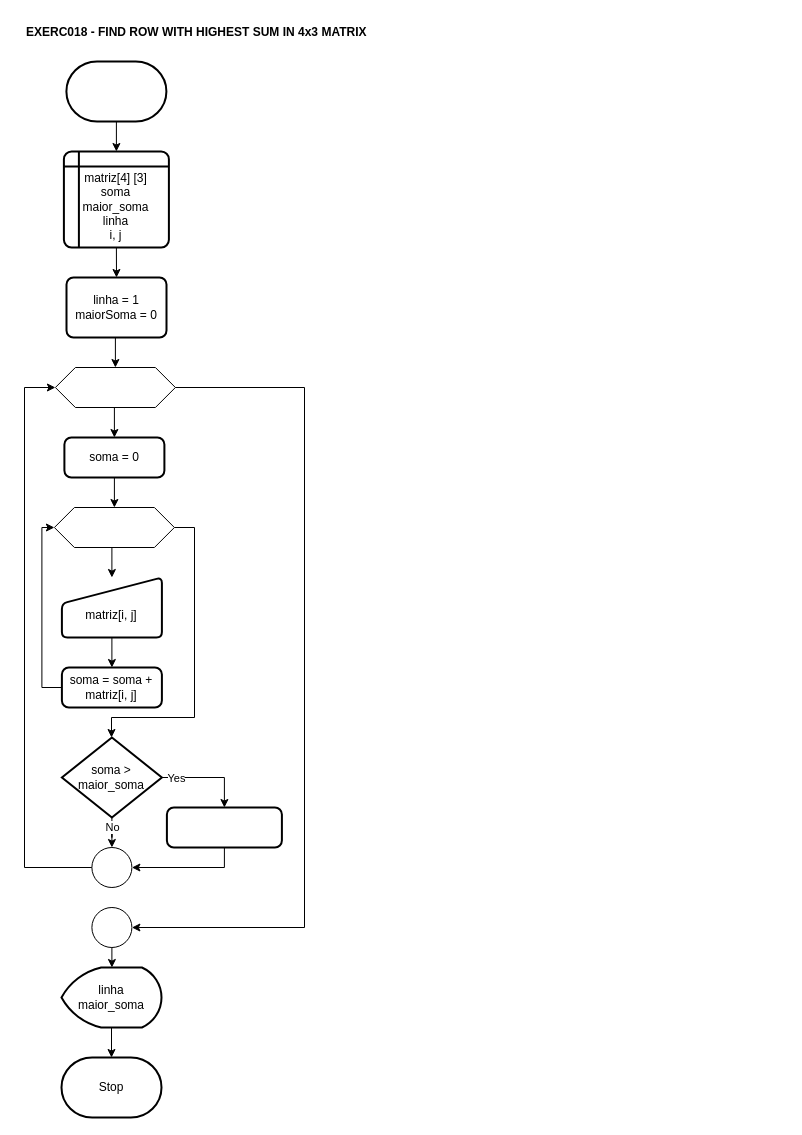
Some shapes in this 802 by 1135 pixel diagram are drawn without their labels. The shapes that lost their labels are listed below. From the top down, each one's centre as x and y in pixels, then its label:
(116,91): Start
(114,387): i 1, 4, 1
(113,527): j 1, 3, 1
(223,827): linha = i maior_soma = soma
